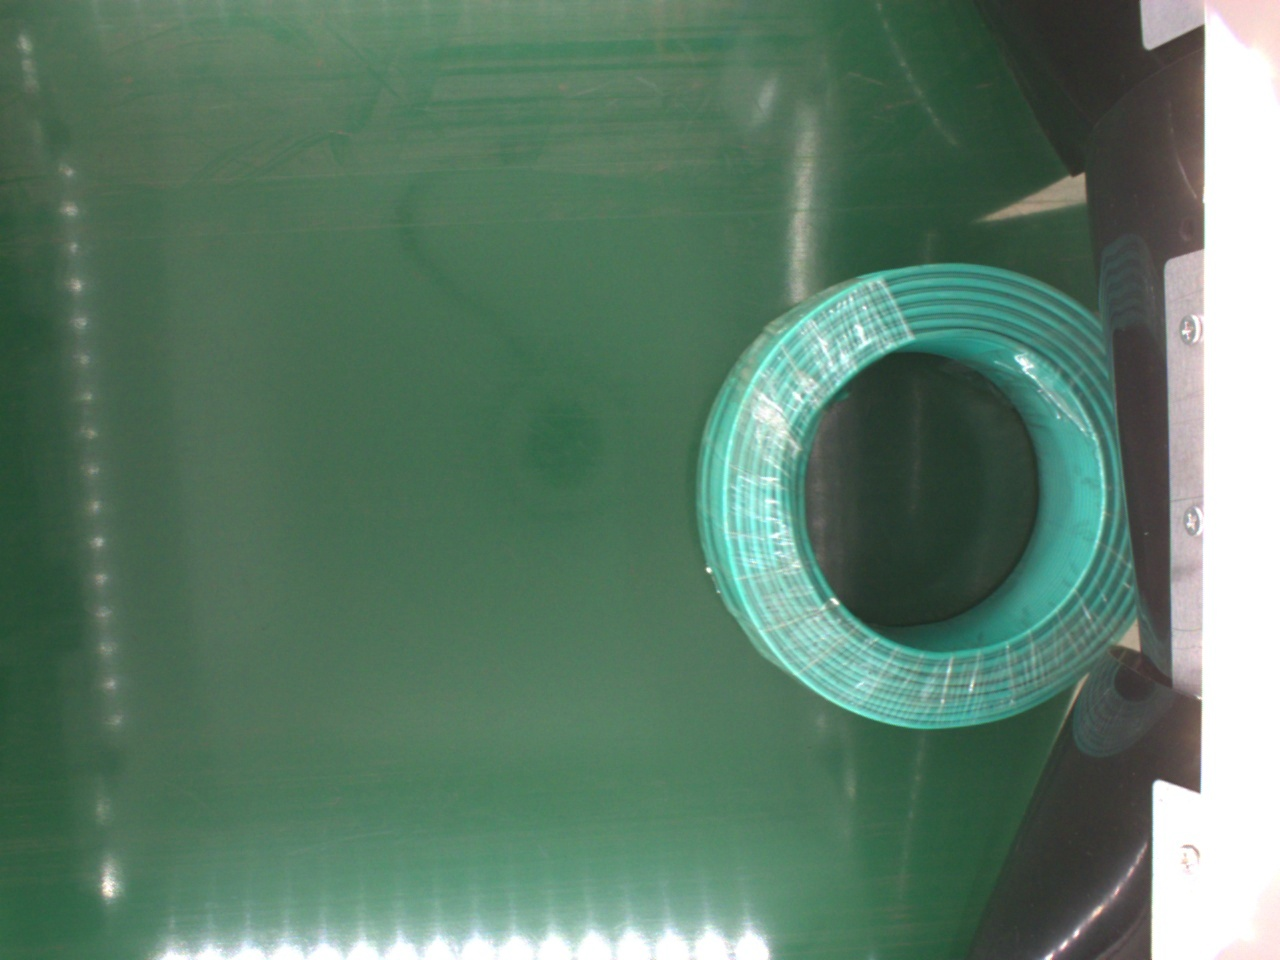green: (695, 262, 1134, 732)
